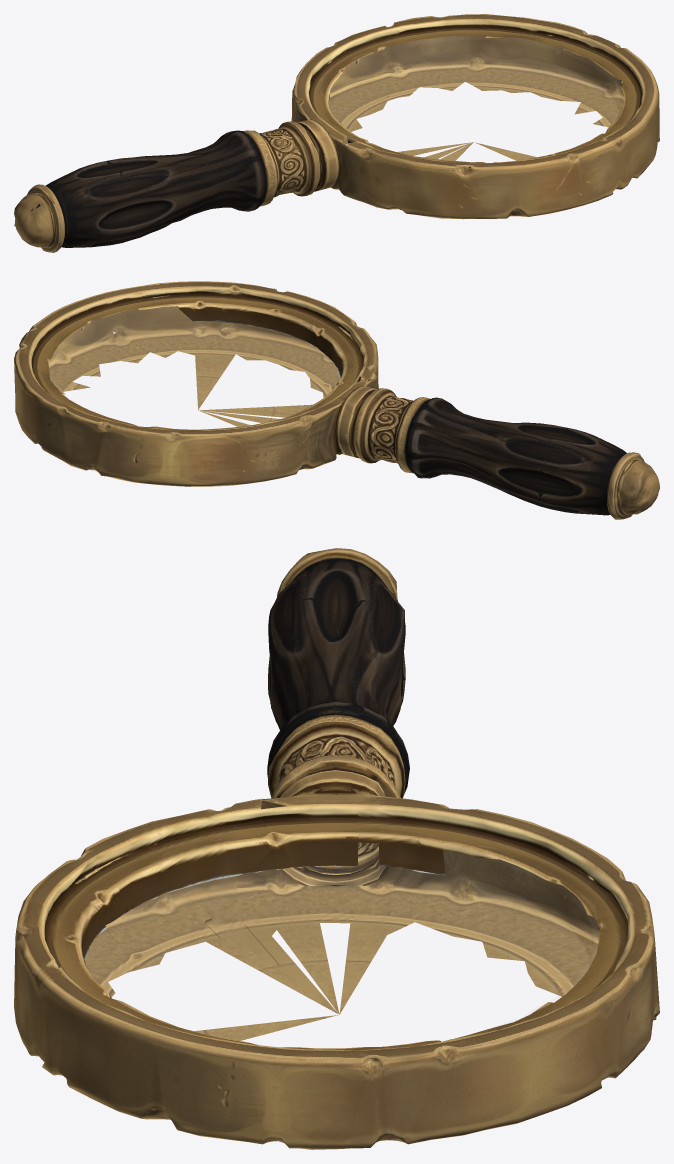
Rendered from magnifying_glass.glb.
3 views of the same model, one above another, from view 1: azimuth 30°, elevation 25°; view 2: azimuth 150°, elevation 25°; view 3: azimuth 270°, elevation 25° (orthographic). The views are drawn at different scales.
Bounding box in the file's own units: 0.9497 × 0.1099 × 0.4971.
Materials: 2 (1 with a texture image).
